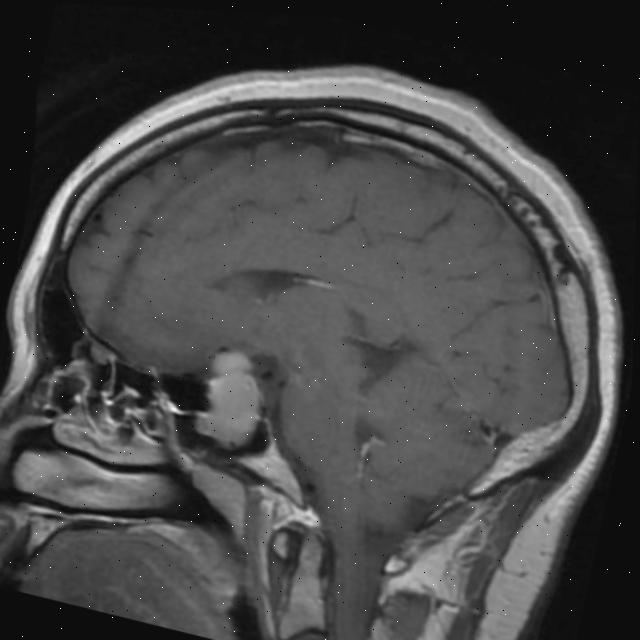Pituitary: (190, 342, 273, 456)
